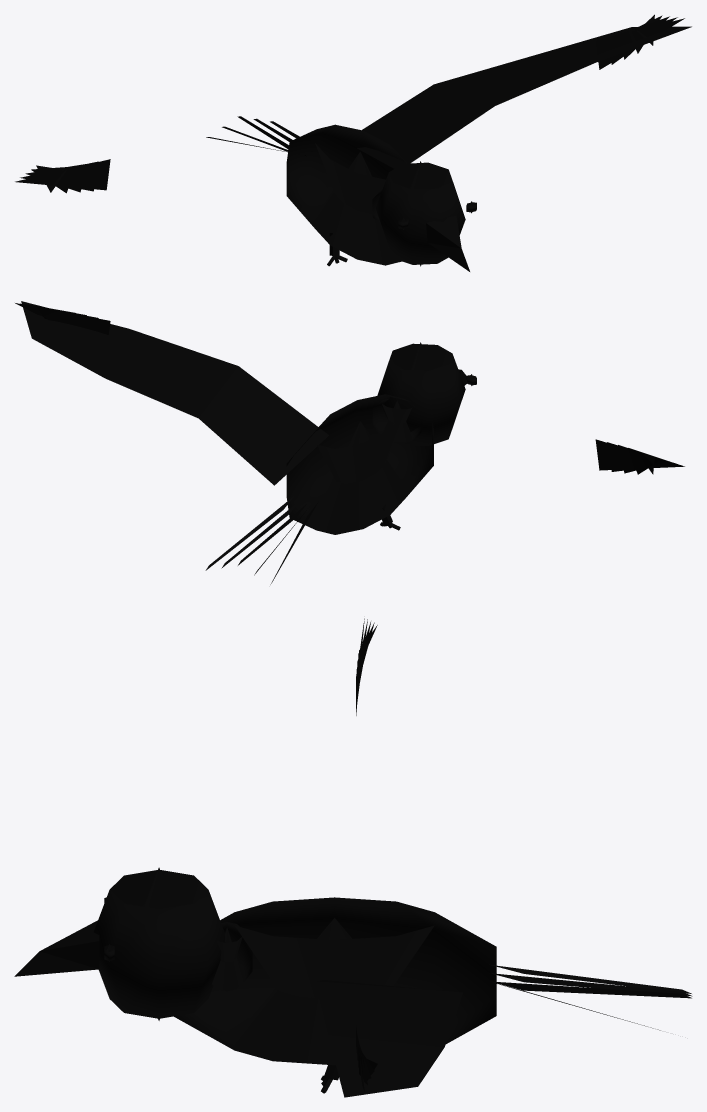
The model's file is gliding_04.glb.
The picture shows the model from 3 angles, top to bottom: view 1: azimuth 30°, elevation 25°; view 2: azimuth 150°, elevation 25°; view 3: azimuth 270°, elevation 25°; orthographic projection. The views are drawn at different scales.
Visible parts, largest first — view 1: RaptorBody; view 2: RaptorBody; view 3: RaptorBody.
Part boxes in pixels (x1,y1,x2,y2): RaptorBody: (15,14,691,271); RaptorBody: (15,301,684,584); RaptorBody: (14,618,692,1097).
Bounding box in the file's own units: 1.99 × 0.4427 × 1.19.
Materials: 7 (7 with a texture image).
